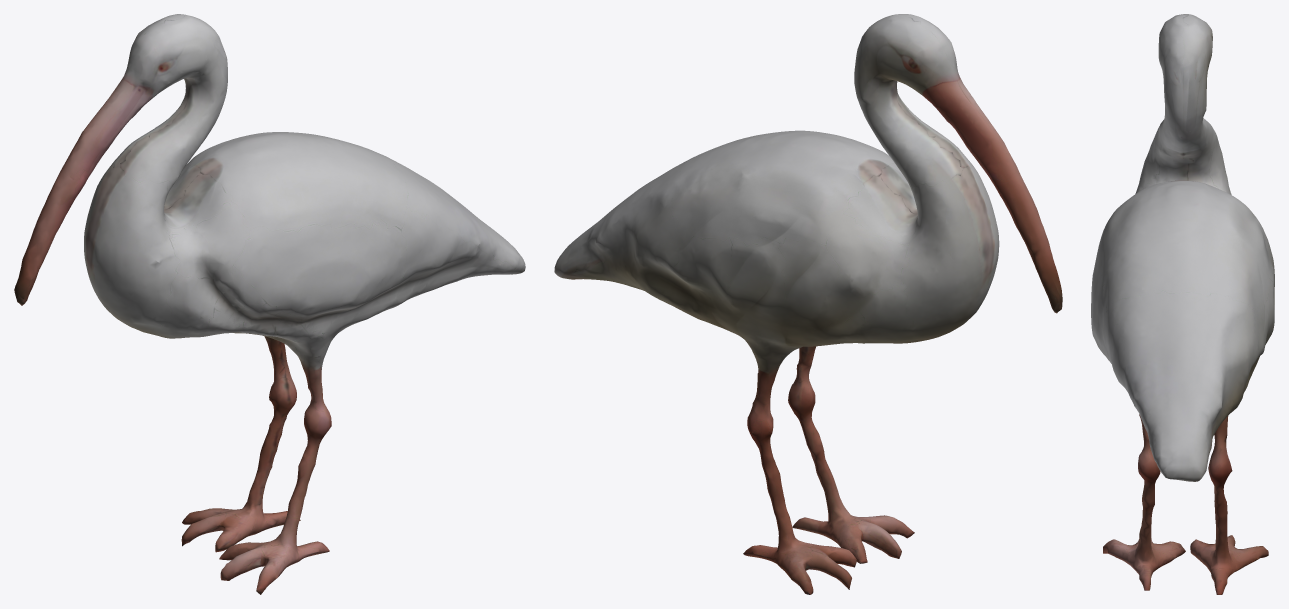
Rendered from A_realistic_tall_white_ibis_0505190153_refine.fbx.
3 renders of one model, left to right at view 1: azimuth 30°, elevation 25°; view 2: azimuth 150°, elevation 25°; view 3: azimuth 270°, elevation 25°, orthographic. The views are drawn at different scales.
Parts seen in each view (by area): view 1: Mesh_0; view 2: Mesh_0; view 3: Mesh_0.
Boxes of the visible parts, <box> form: Mesh_0: <box>14,14,525,594</box>; Mesh_0: <box>554,14,1062,594</box>; Mesh_0: <box>1091,14,1274,594</box>.
Bounding box in the file's own units: 113 × 120 × 38.75.
1 material, 1 textured.
